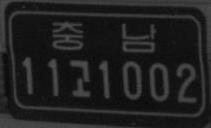0: (120, 61, 144, 99), (148, 61, 168, 102)
1: (42, 57, 68, 97), (17, 57, 43, 95), (95, 60, 118, 99)
2: (176, 62, 198, 104)
고: (69, 59, 91, 97)
충남_D: (51, 19, 157, 52)
